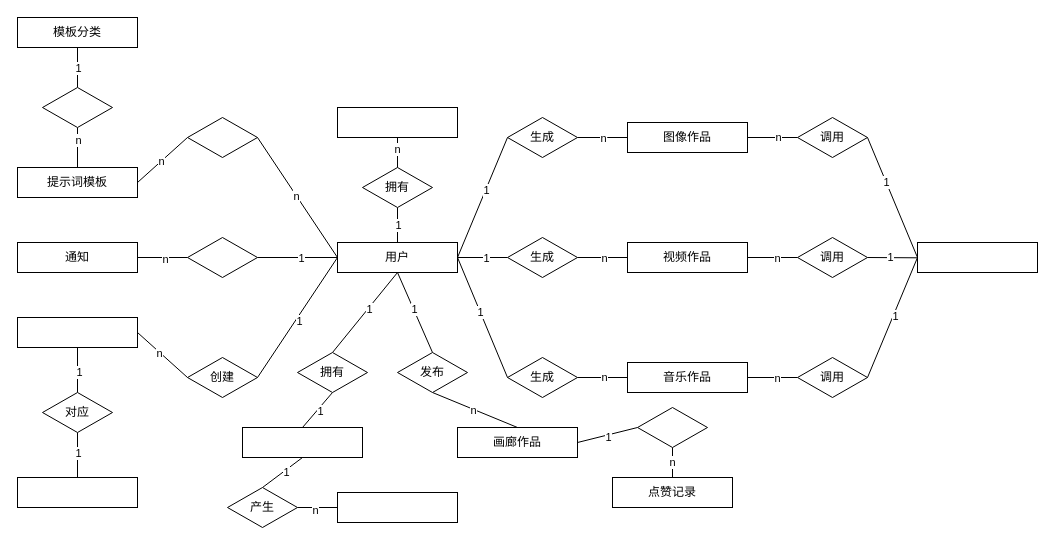
The diagram is 1055 pixels wide and 545 high, and some of its shapes have lost their labels. The shapes that lost their labels are listed below. From the top down, each one's box as (x1, y1, x2, y2) in pixels, then its label:
(42, 86, 112, 128): 属于
(336, 106, 458, 138): 工作区
(186, 116, 258, 158): 使用
(186, 236, 258, 278): 接收
(916, 242, 1038, 272): AI模型配置
(16, 316, 138, 348): 订单
(242, 426, 362, 458): 用户积分
(636, 406, 708, 448): 被点赞
(16, 476, 138, 508): 支付交易
(336, 492, 458, 522): 积分流水
